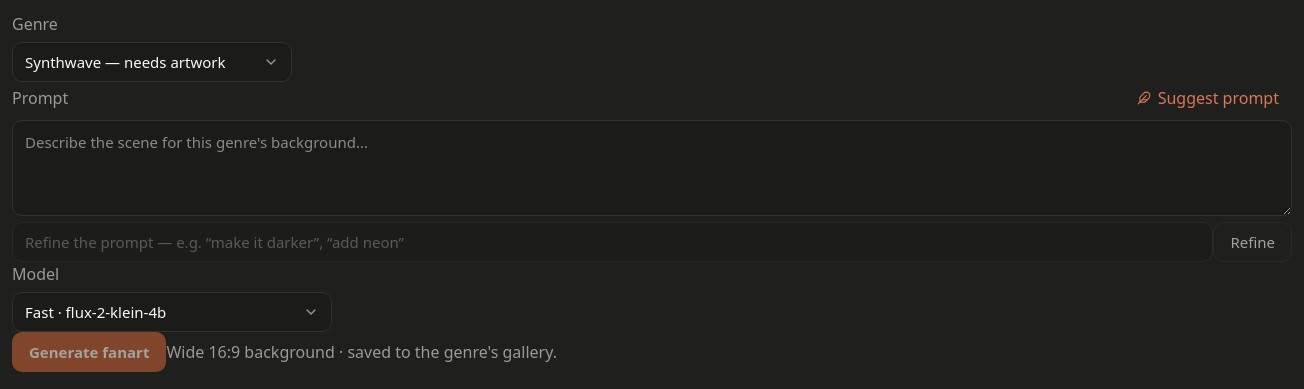
Test: GenreFanartMode prompt authoring › when a refine instruction is submitted, then the rewritten prompt replaces the old one
Type "a chrome coastline at dusk" into the text box named "Fanart prompt". click: (652,168)
box: x1=12 y1=120 x2=1292 y2=216
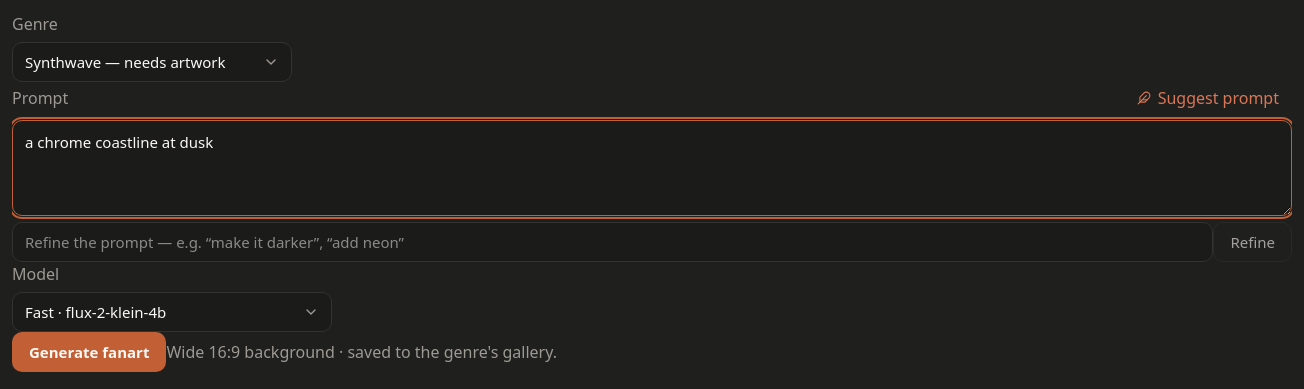
Type "add rain" into the field named "Refine prompt instruction". click: (613,242)
box: x1=12 y1=222 x2=1213 y2=262
Then press Enter
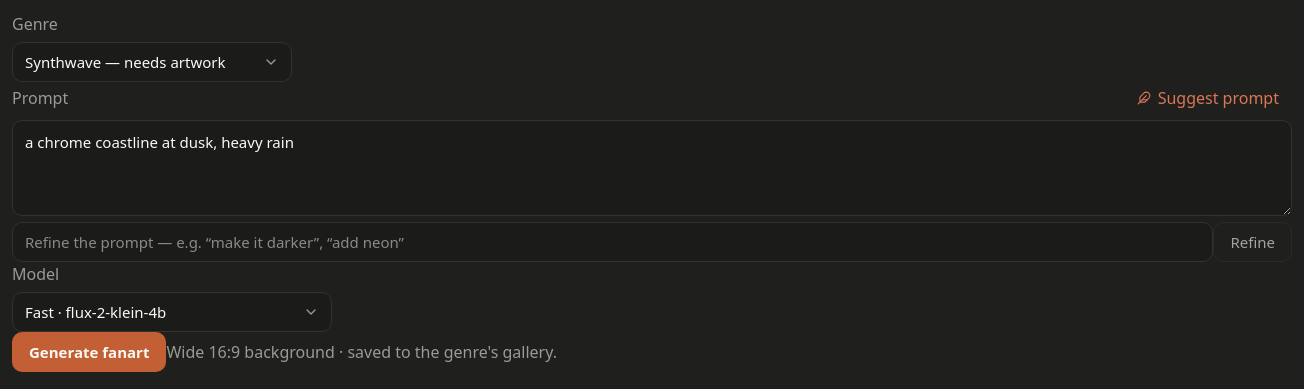
expect the text box named "Fanart prompt" holds "a chrome coastline at dusk, heavy rain": met, box x1=12 y1=120 x2=1292 y2=216
